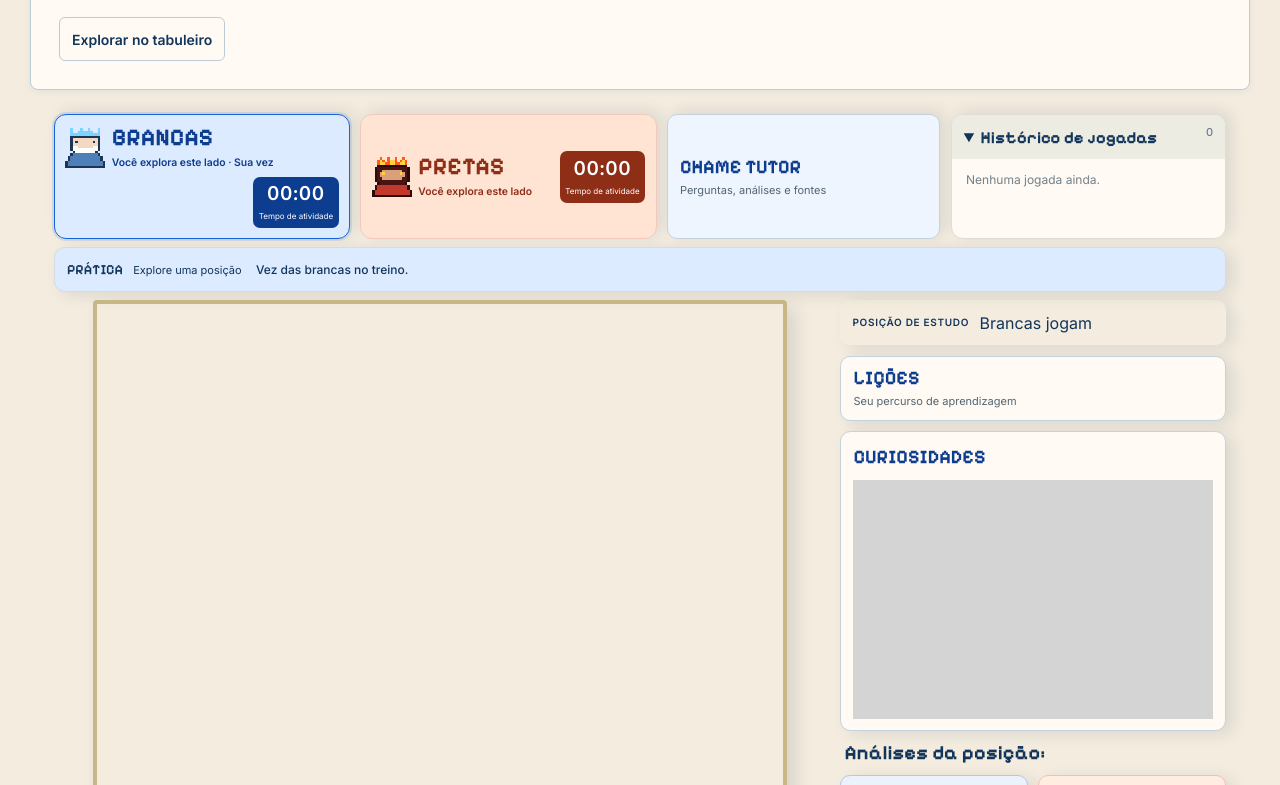
it: retoma a lição atual ao abrir quando há id guardado
(page scrolled)
Click the button "LIÇÕES Seu percurso de aprendizagem": (886, 377) [840,356,1226,421]
(page scrolled)
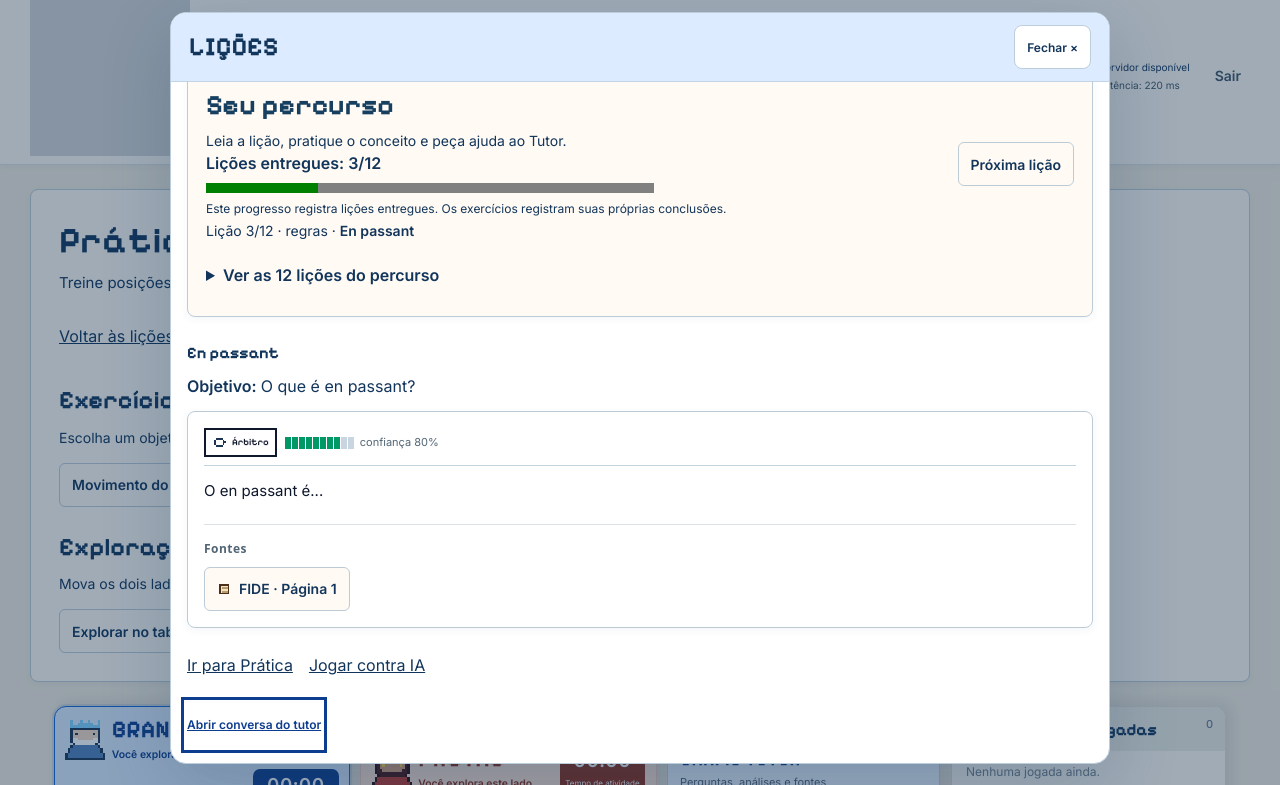
Check: the text "O en passant é..." is shown, box [204,481,323,500]
Check: the text "Servidor disponível" is shown, box [1099,60,1190,72]
